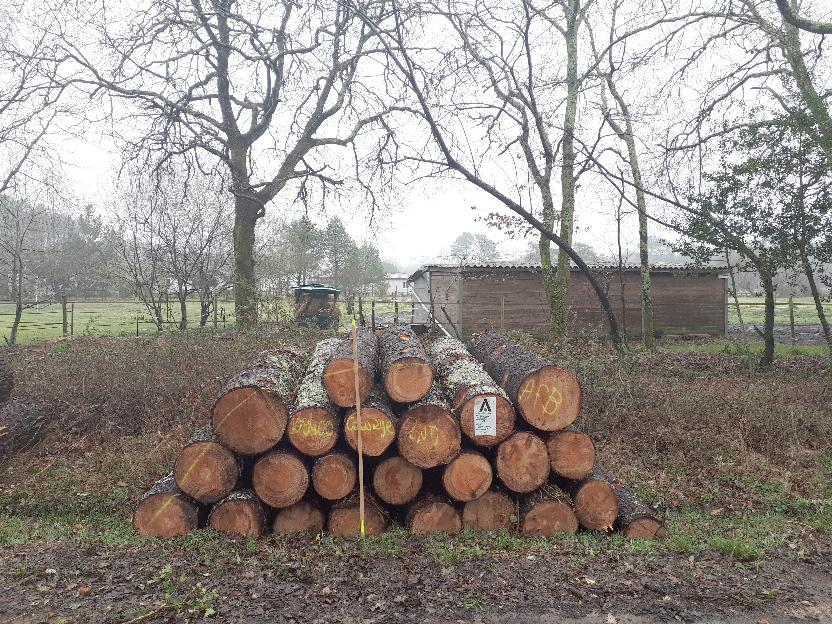etalon: (350, 319, 368, 539)
object: (210, 383, 290, 457), (511, 364, 583, 432), (172, 440, 242, 504), (400, 402, 460, 468), (496, 428, 548, 494), (252, 451, 308, 507), (132, 494, 196, 538), (462, 394, 514, 448), (308, 455, 364, 502), (374, 453, 424, 505), (332, 492, 388, 538), (578, 476, 622, 534), (442, 450, 494, 499), (341, 406, 394, 454), (548, 426, 596, 479), (288, 406, 340, 454), (209, 498, 264, 542), (462, 490, 516, 534), (386, 357, 434, 405), (518, 498, 578, 536), (326, 359, 372, 407), (274, 502, 324, 542), (412, 499, 462, 533), (625, 510, 669, 540)
pile: (124, 352, 678, 544)
